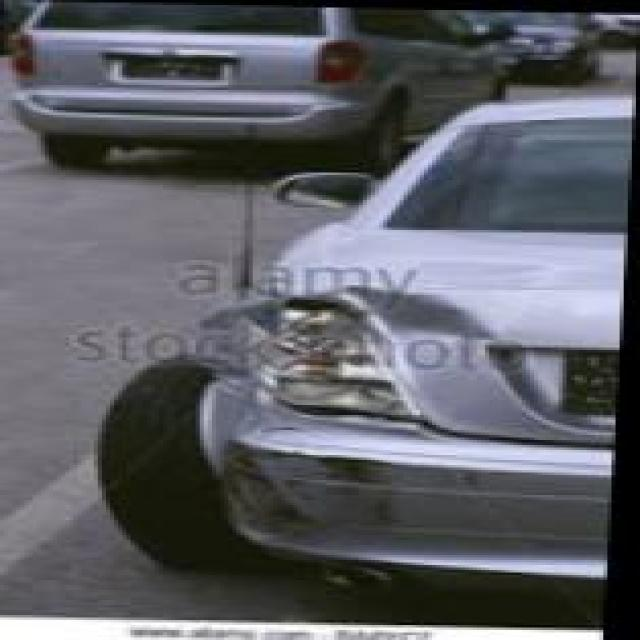rapairable: (204, 440, 410, 544)
replaceable: (202, 252, 464, 416)
